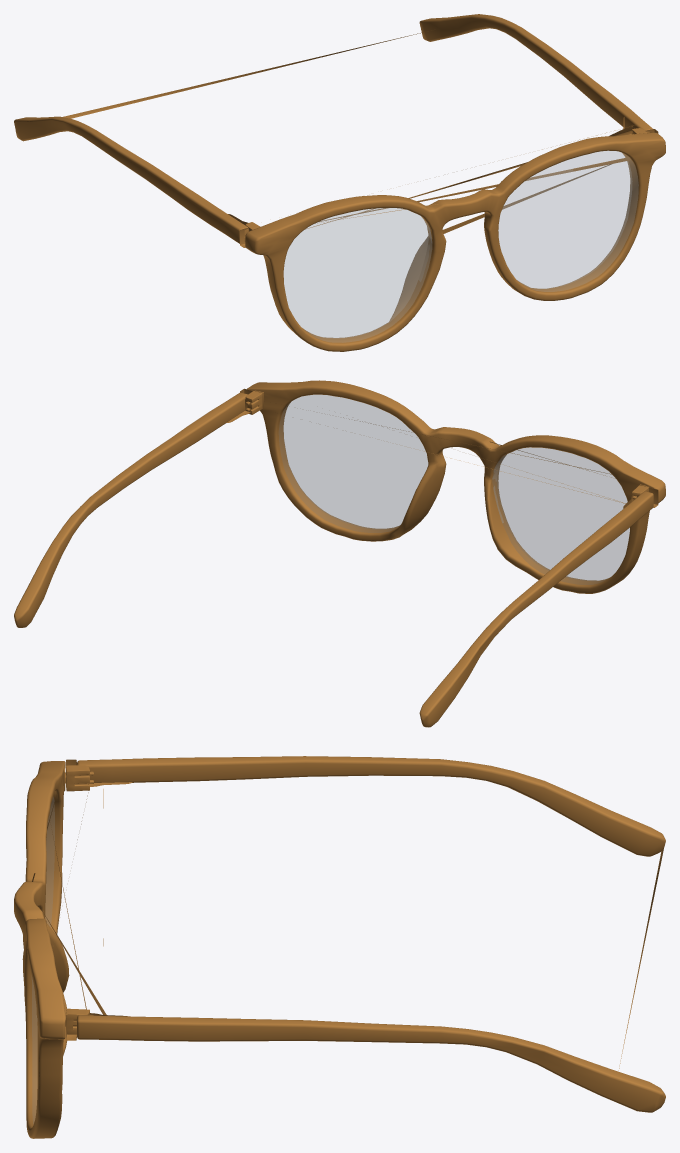
The model's file is model_1_honey_amber.glb.
3 renders of one model, top to bottom at view 1: azimuth 30°, elevation 25°; view 2: azimuth 150°, elevation 25°; view 3: azimuth 270°, elevation 25°, orthographic. The views are drawn at different scales.
Visible parts, largest first — view 1: model_0; view 2: model_0; view 3: model_0.
Part boxes in pixels (x1,y1,x2,y2): model_0: (14,14,665,351); model_0: (14,380,665,727); model_0: (14,756,665,1138).
Size of the model in its own units: 0.565 by 0.1842 by 0.5717.
